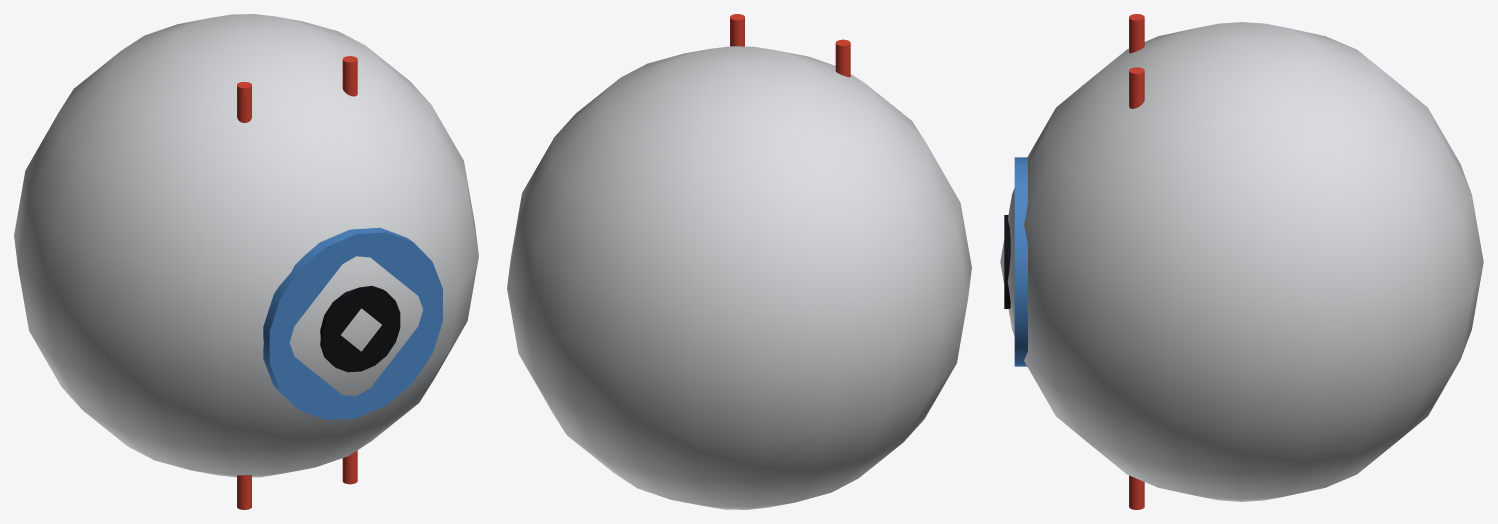
The model's file is eye.glb.
The picture shows the model from 3 angles, left to right: view 1: azimuth 30°, elevation 25°; view 2: azimuth 150°, elevation 25°; view 3: azimuth 270°, elevation 25°; orthographic projection. The views are drawn at different scales.
Parts seen in each view (by area): view 1: eye; view 2: eye; view 3: eye.
Boxes of the visible parts, left/top/right/bottom form: eye: left=14, top=14, right=478, bottom=509; eye: left=507, top=14, right=971, bottom=509; eye: left=1000, top=14, right=1483, bottom=509.
Size of the model in its own units: 0.736 by 0.736 by 0.736.
